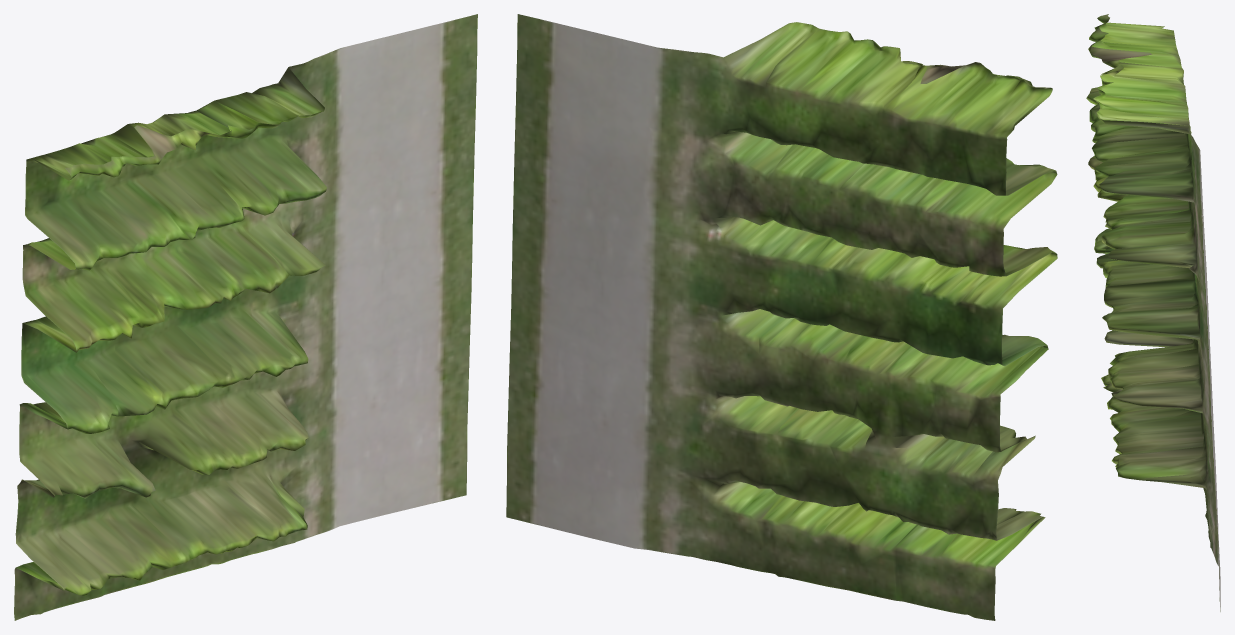
Rendered from map_180_80.obj.
The picture shows the model from 3 angles, left to right: view 1: azimuth 30°, elevation 25°; view 2: azimuth 150°, elevation 25°; view 3: azimuth 270°, elevation 25°; orthographic projection. The views are drawn at different scales.
Bounding box in the file's own units: 10 × 10 × 2.95.
Materials: 1 (1 with a texture image).
